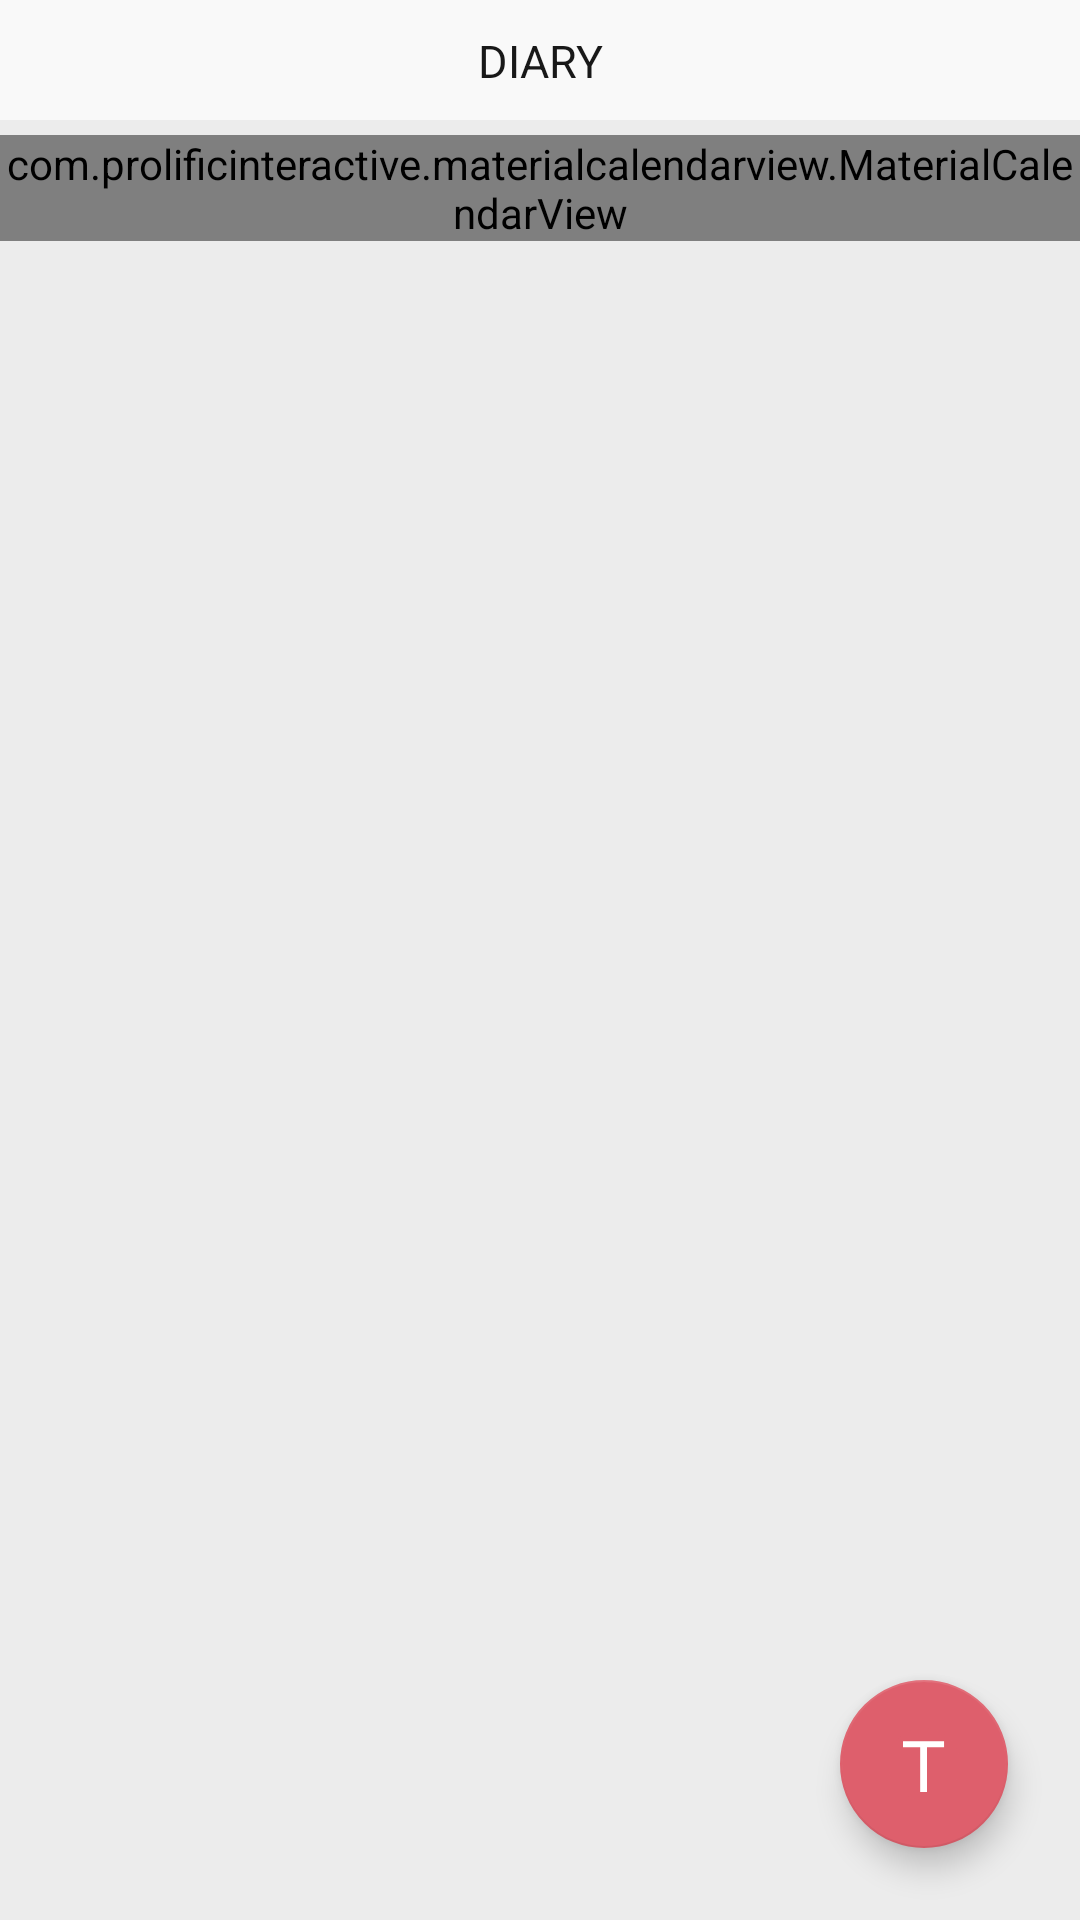

Icons on this 1080 × 1920 Android screen, each with the point to tap as point (x, y):
todayicon: point (924, 1764)
